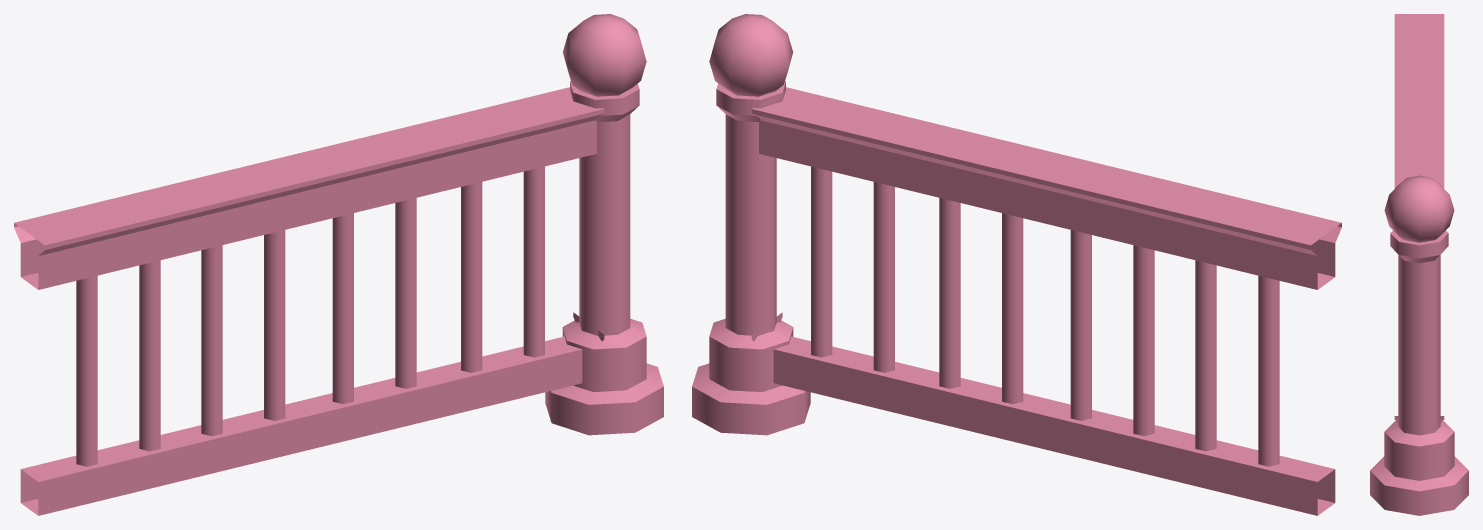
Rendered from SM_Railing.fbx.
The picture shows the model from 3 angles, left to right: view 1: azimuth 30°, elevation 25°; view 2: azimuth 150°, elevation 25°; view 3: azimuth 270°, elevation 25°; orthographic projection. The views are drawn at different scales.
Visible parts, largest first — view 1: SM_Fence; view 2: SM_Fence; view 3: SM_Fence.
Part boxes in pixels (x1=…): SM_Fence: x1=14, y1=14, x2=663, y2=515; SM_Fence: x1=692, y1=14, x2=1341, y2=515; SM_Fence: x1=1370, y1=14, x2=1468, y2=515.
Size of the model in its own units: 206 by 123 by 34.86.
